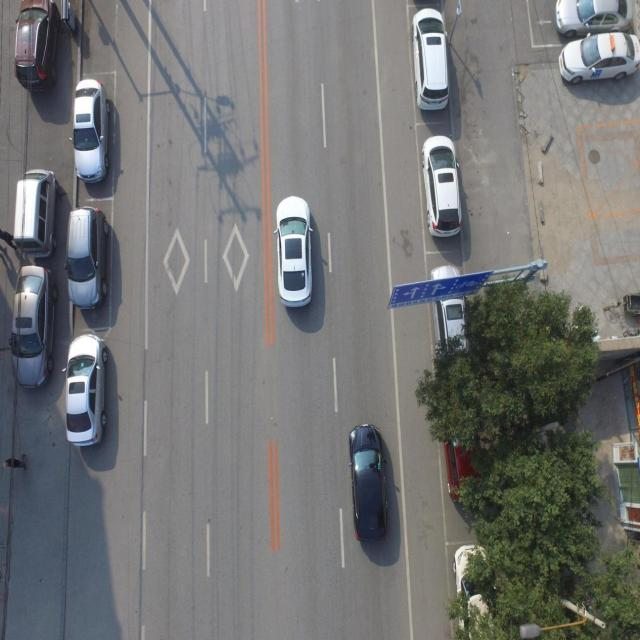p3rson: (2, 453, 27, 471), (0, 226, 17, 252), (0, 232, 6, 259)
